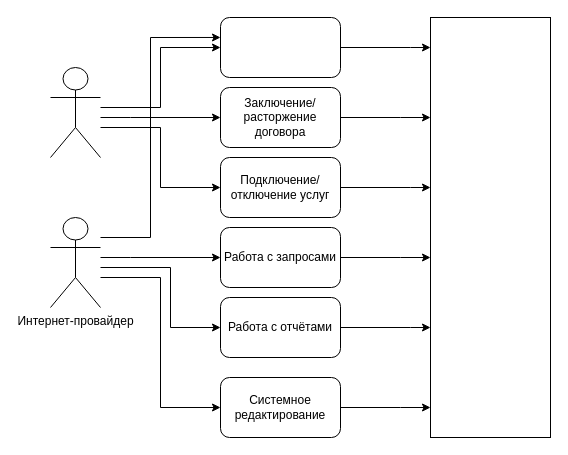
Some shapes in this 568 by 455 pixel diagram are drawn without their labels. The centre of each missing label's shape, as x and y in pixels:
Авторизация: the point at 280,47
Информационная система: the point at 490,227
Клиент: the point at 75,112
